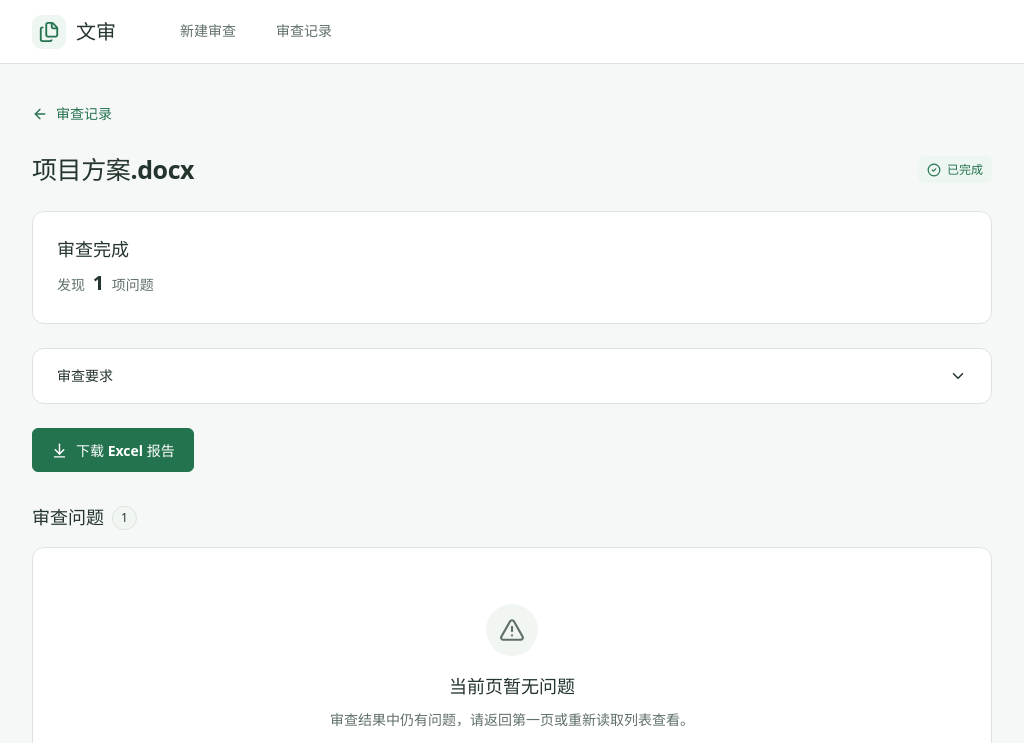
Test: review workspace › shows actual normalized rules and notes behind the review requirements disclosure
This screenshot has width=1024, height=743.
Expected: the text "审查要求" is shown, x1=57 y1=365 x2=113 y2=387
Expected: the text "预算应明确是否包含税费。" is not shown
Click the heading "审查要求" at (85, 376), box x1=57 y1=366 x2=967 y2=385
(page scrolled)
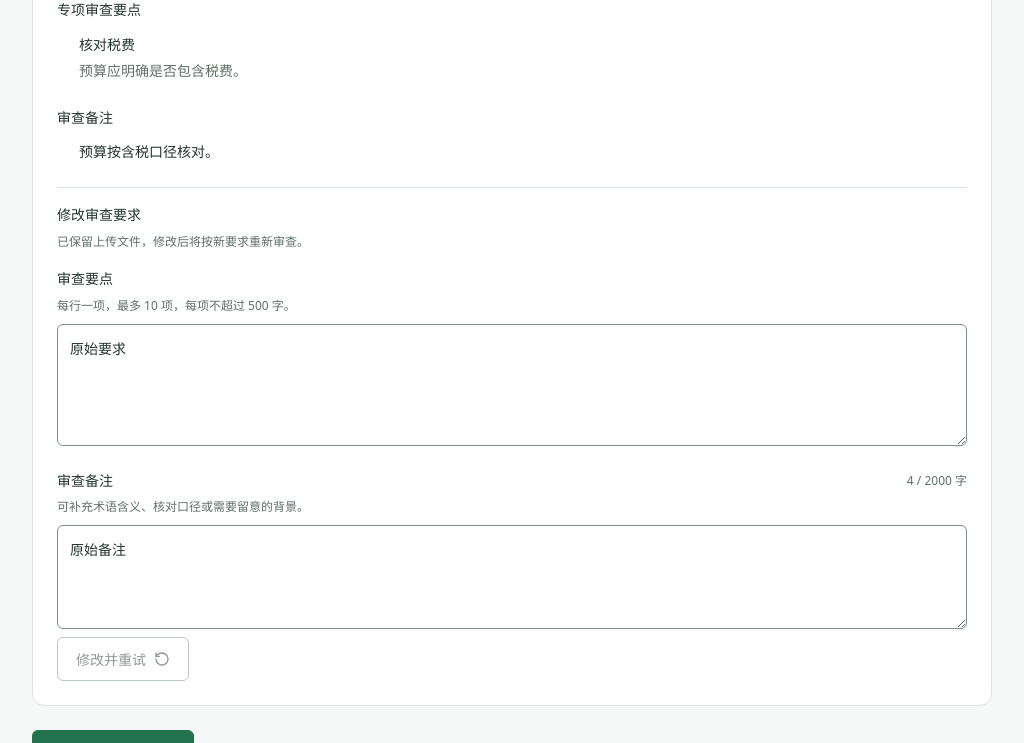
Result: the text "预算应明确是否包含税费。" is shown at x1=79 y1=61 x2=247 y2=80
Result: the list item "预算按含税口径核对。" is shown at x1=79 y1=142 x2=219 y2=161
Result: the text box labelled "审查要点" holds "原始要求" at x1=57 y1=324 x2=967 y2=446
